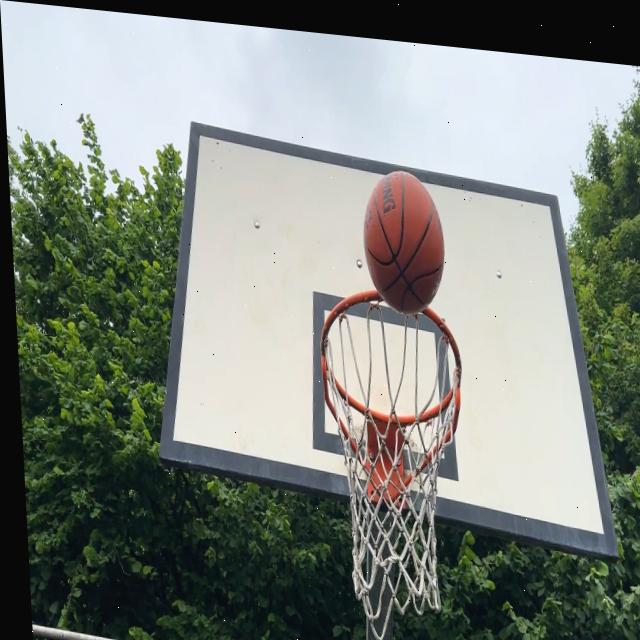rebound_hit: (358, 164, 449, 337)
